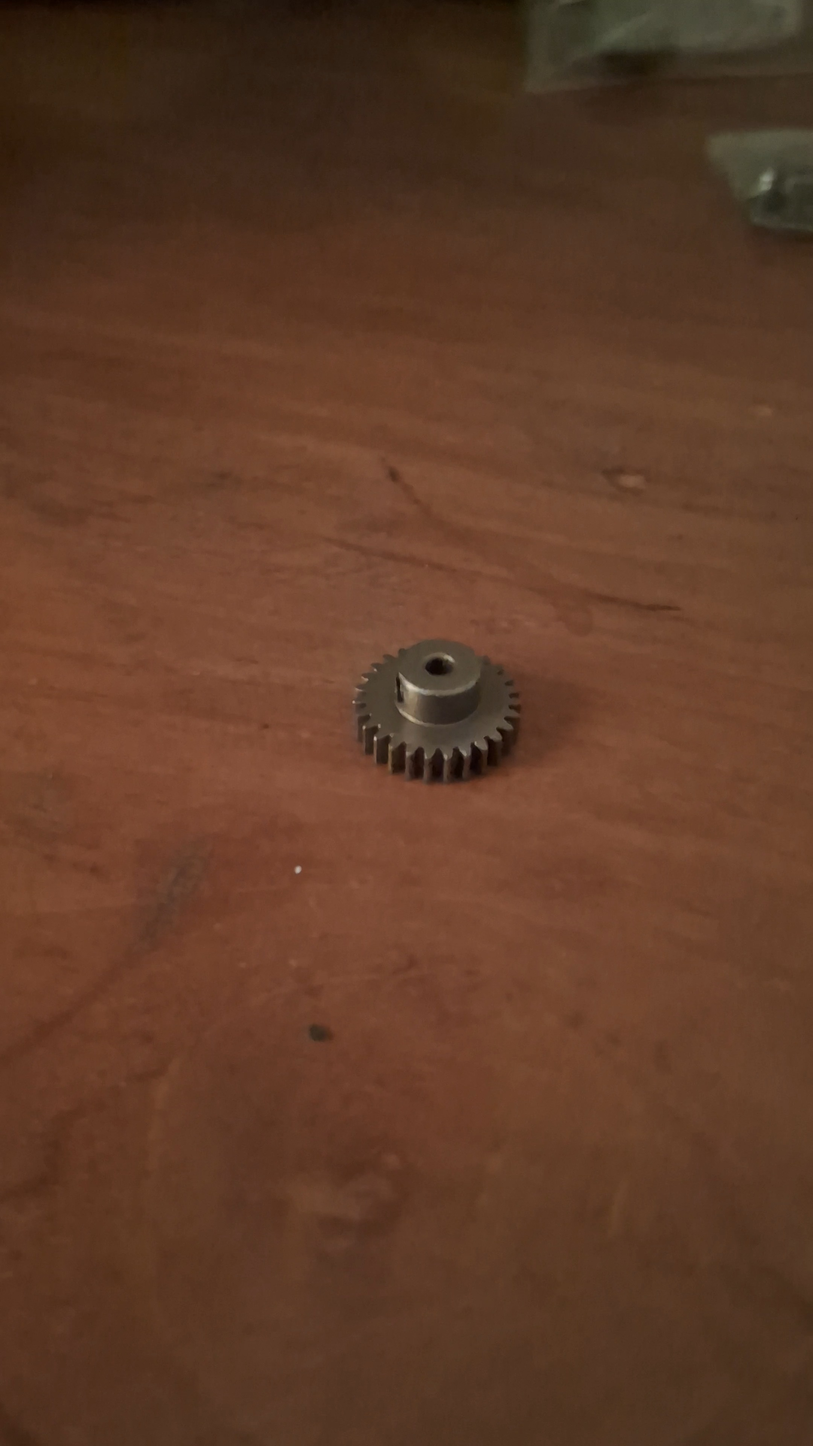spur gear: (355, 639, 519, 781)
